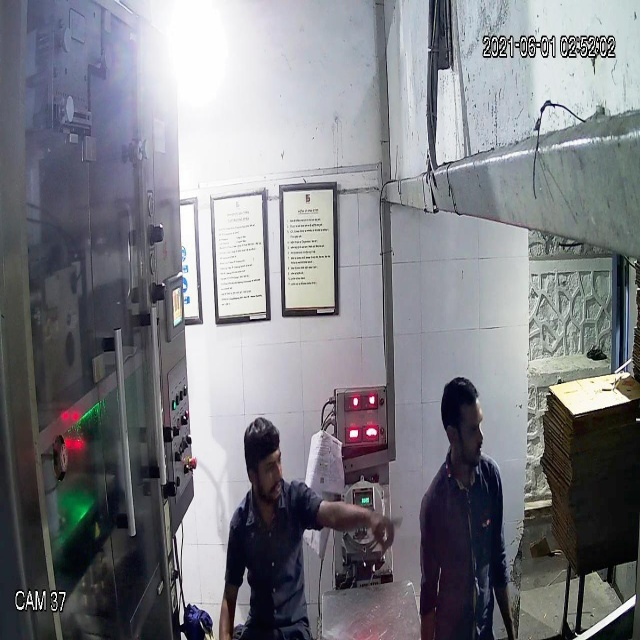Sin_gafas: (239, 446, 287, 486), (438, 412, 489, 447)
